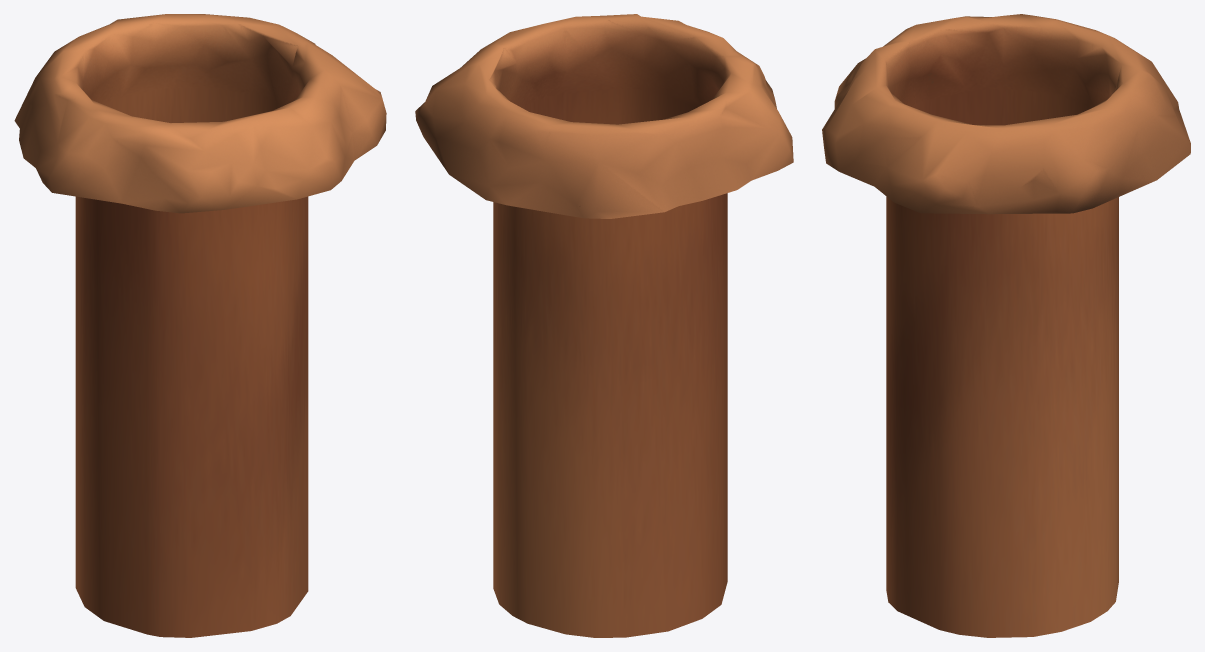
Rendered from Mudhole.FBX.
The picture shows the model from 3 angles, left to right: view 1: azimuth 30°, elevation 25°; view 2: azimuth 150°, elevation 25°; view 3: azimuth 270°, elevation 25°; orthographic projection.
Parts seen in each view (by area): view 1: Mud Hole; view 2: Mud Hole; view 3: Mud Hole.
Boxes of the visible parts, x1,y1,x2,y2 form: Mud Hole: [14, 14, 386, 637]; Mud Hole: [415, 14, 793, 637]; Mud Hole: [822, 14, 1190, 637].
Bounding box in the file's own units: 34.44 × 53.04 × 34.24.
